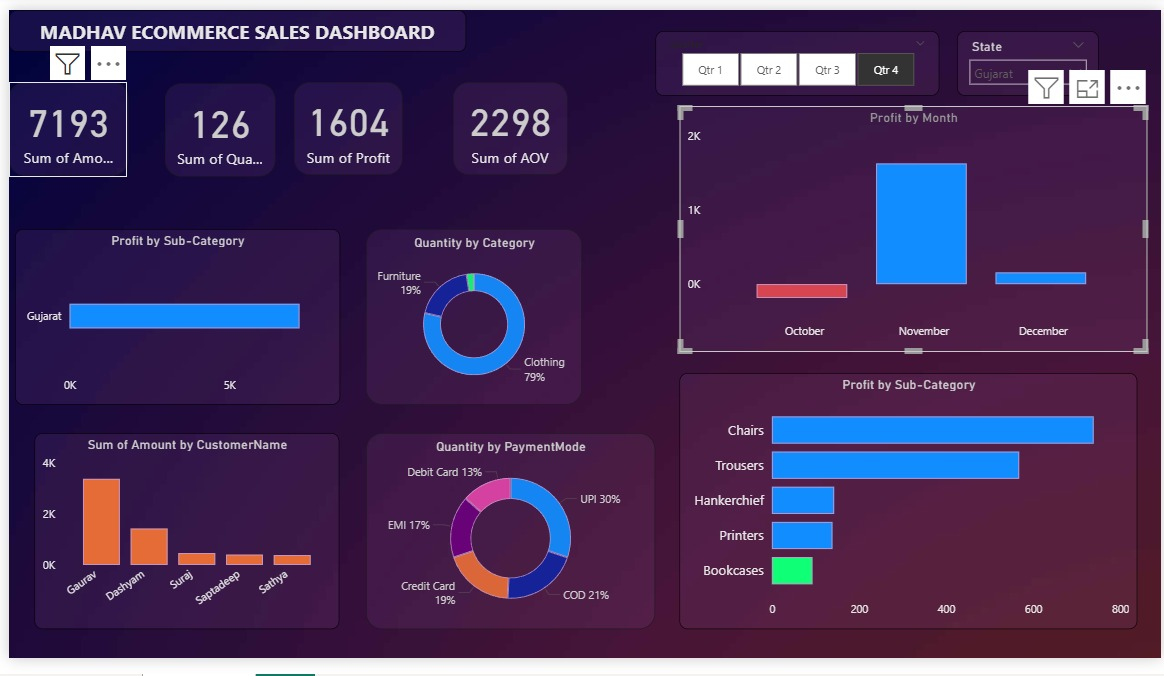

This screenshot's page, from the dashboard's own definition file:
{"tool":"powerbi","page":{"name":"Page 1","canvas":[1280,720],"ordinal":0},"visuals":[{"type":"textbox","box":[0,0,508.1,47],"z":0},{"type":"columnChart","title":"Profit by Month","fields":{"Y":["Details.Profit"],"Category":["Orders.Order Date.Variation.Date Hierarchy.Month"]},"box":[744.5,107.3,519.8,273.3],"z":1000},{"type":"barChart","title":"Profit by Sub-Category","fields":{"Category":["Details.Sub-Category"],"Y":["Details.Profit"]},"box":[744.4,404,509,284.7],"z":2000},{"type":"donutChart","title":"Quantity by Category","fields":{"Category":["Details.Category"],"Y":["Details.Quantity"]},"box":[396.1,243.4,240.2,195.6],"z":3000},{"type":"donutChart","title":"Quantity by PaymentMode","fields":{"Y":["Details.Quantity"],"Category":["Details.PaymentMode"]},"box":[396.1,470.8,321.3,217.9],"z":4000},{"type":"card","fields":{"Values":["Details.Amount"]},"box":[0,80.5,132.5,104],"z":5000},{"type":"card","fields":{"Values":["Details.Quantity"]},"box":[173.4,81.1,122.5,103.4],"z":6000},{"type":"card","fields":{"Values":["Details.Profit"]},"box":[316.5,79.5,120.9,103.4],"z":7000},{"type":"card","fields":{"Values":["Details.AOV"]},"box":[493.1,79.5,127.2,103.4],"z":8000},{"type":"barChart","title":"Profit by Sub-Category","fields":{"Category":["Orders.State"],"Y":["Details.Amount"]},"box":[6.4,243.4,361.1,195.6],"z":9000},{"type":"columnChart","fields":{"Category":["Orders.CustomerName"],"Y":["Details.Amount"]},"box":[28.6,470.8,338.8,217.9],"z":10000},{"type":"slicer","fields":{"Values":["Orders.Order Date.Variation.Date Hierarchy.Quarter"]},"box":[717.7,23.5,315.3,72.1],"z":11000},{"type":"slicer","fields":{"Values":["Orders.State"]},"box":[1053.1,23.5,157.6,72.1],"z":11001}]}

Visuals, with their boxes on the page's 1280x720 design canvas (x1, y1, x2, y2). These are canvas units, not pixel positions in the 1164x676 screenshot, which may show the page scaled, cropped or inside an application window:
textbox: x1=0 y1=0 x2=508 y2=47
"Profit by Month" columnChart: x1=744 y1=107 x2=1264 y2=381
"Profit by Sub-Category" barChart: x1=744 y1=404 x2=1253 y2=689
"Quantity by Category" donutChart: x1=396 y1=243 x2=636 y2=439
"Quantity by PaymentMode" donutChart: x1=396 y1=471 x2=717 y2=689
card - Details.Amount: x1=0 y1=80 x2=132 y2=184
card - Details.Quantity: x1=173 y1=81 x2=296 y2=184
card - Details.Profit: x1=316 y1=80 x2=437 y2=183
card - Details.AOV: x1=493 y1=80 x2=620 y2=183
"Profit by Sub-Category" barChart: x1=6 y1=243 x2=368 y2=439
columnChart - Orders.CustomerName x Details.Amount: x1=29 y1=471 x2=367 y2=689
slicer - Orders.Order Date.Variation.Date Hierarchy.Quarter: x1=718 y1=24 x2=1033 y2=96
slicer - Orders.State: x1=1053 y1=24 x2=1211 y2=96
